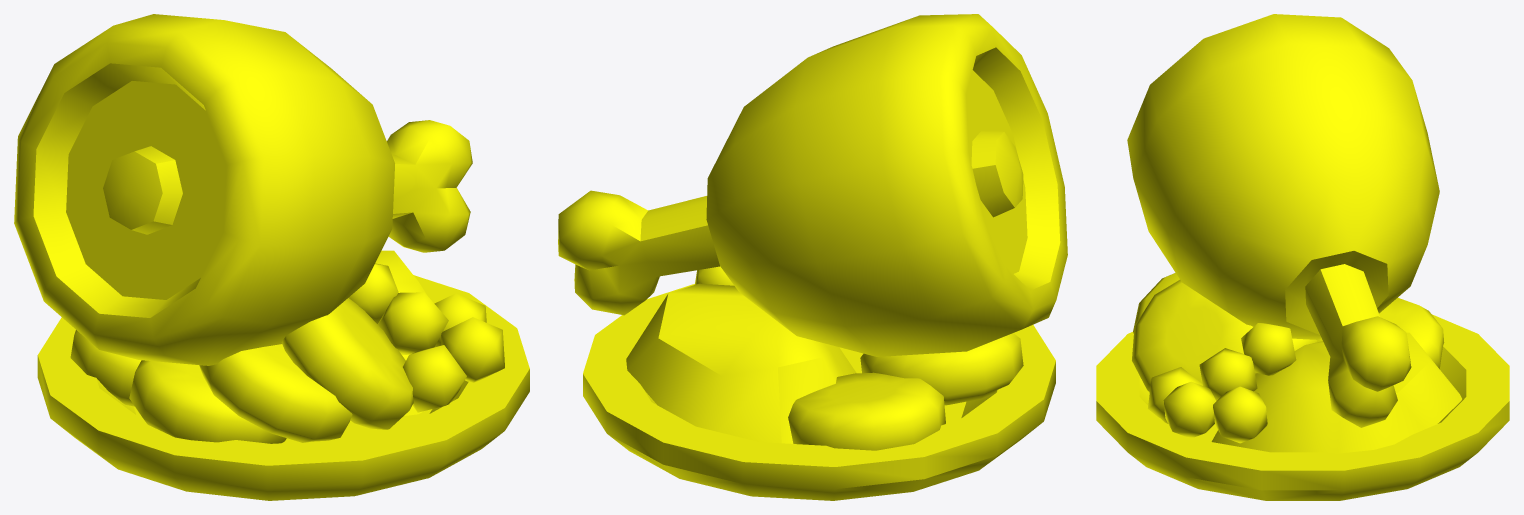
File: kaykit-food-dinner.glb
The picture shows the model from 3 angles, left to right: view 1: azimuth 30°, elevation 25°; view 2: azimuth 150°, elevation 25°; view 3: azimuth 270°, elevation 25°; orthographic projection. The views are drawn at different scales.
Parts seen in each view (by area): view 1: food_dinner; view 2: food_dinner; view 3: food_dinner.
Part boxes in pixels (box(x1,y1,x2,y2)): food_dinner: box(14, 14, 529, 500); food_dinner: box(558, 14, 1067, 500); food_dinner: box(1096, 14, 1509, 500).
Size of the model in its own units: 1.04 by 0.9079 by 0.9501.
